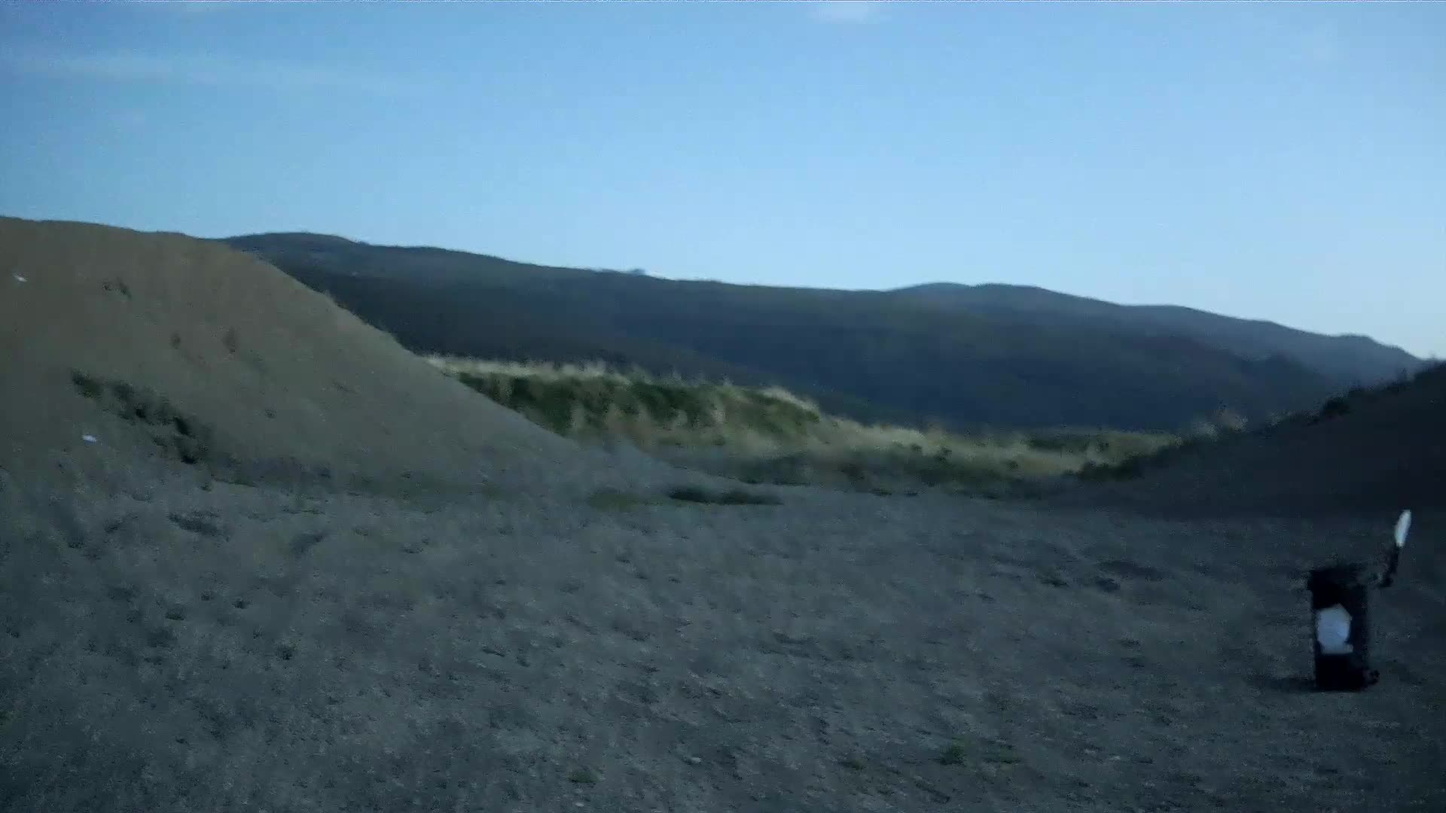Target: (1314, 606, 1357, 654)
